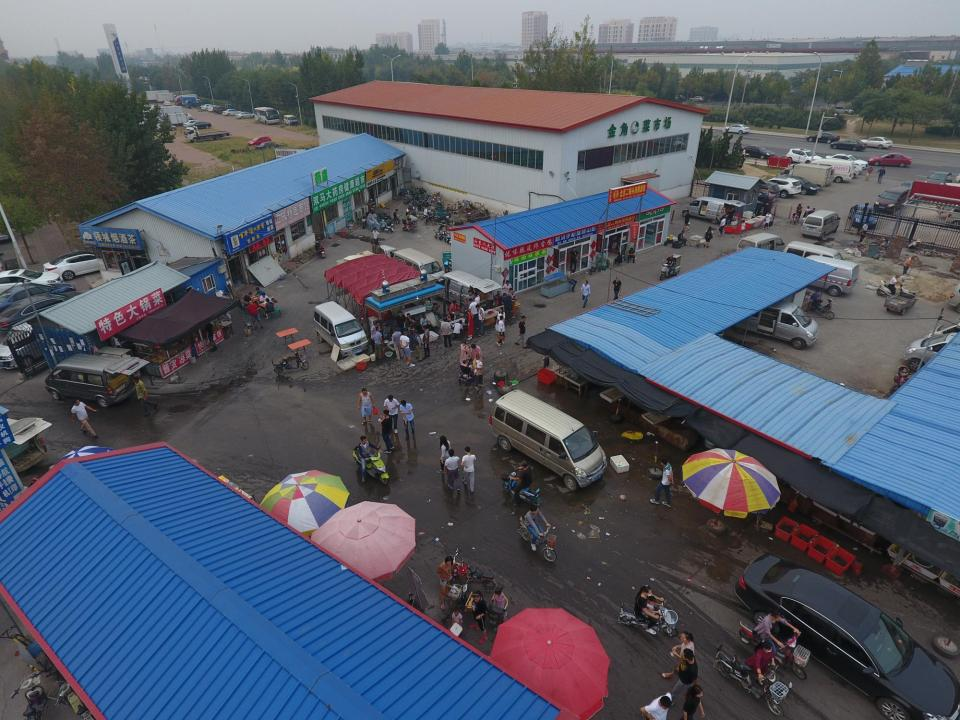bus: (254, 106, 279, 125)
car: (734, 553, 960, 720), (0, 291, 91, 338), (0, 282, 76, 322), (43, 251, 124, 280), (0, 268, 65, 298), (729, 186, 775, 206), (775, 176, 819, 195), (848, 204, 878, 228), (868, 152, 911, 167), (923, 172, 952, 192), (738, 144, 774, 160), (897, 181, 922, 203), (153, 106, 184, 122), (830, 139, 867, 151), (859, 137, 893, 149), (806, 132, 840, 144), (145, 90, 174, 103), (255, 141, 285, 152), (247, 135, 272, 148), (723, 124, 750, 134), (184, 121, 212, 130), (149, 122, 176, 131), (156, 93, 178, 104), (183, 120, 205, 128), (235, 111, 256, 119), (222, 109, 242, 116), (689, 96, 706, 103), (208, 105, 224, 112), (669, 95, 686, 101), (205, 105, 221, 111), (201, 104, 216, 110), (198, 104, 210, 110), (163, 101, 171, 106)
truck: (336, 245, 399, 274), (180, 126, 232, 142), (167, 113, 196, 127), (174, 94, 198, 107), (185, 99, 209, 109), (181, 96, 202, 107), (213, 104, 235, 114)
van: (489, 389, 607, 491), (44, 354, 150, 408), (735, 296, 819, 350), (0, 311, 75, 369), (313, 301, 368, 359), (430, 270, 501, 314), (791, 255, 859, 297), (903, 333, 960, 376), (779, 241, 846, 277), (393, 248, 446, 285), (778, 163, 832, 191), (735, 232, 785, 260), (800, 209, 841, 239), (805, 159, 854, 183), (873, 186, 912, 214), (760, 177, 802, 198), (798, 164, 834, 187), (741, 179, 780, 200), (785, 148, 822, 166), (826, 154, 867, 170), (823, 160, 859, 178), (825, 160, 863, 174), (138, 118, 165, 133), (832, 106, 854, 115), (283, 114, 299, 126)
